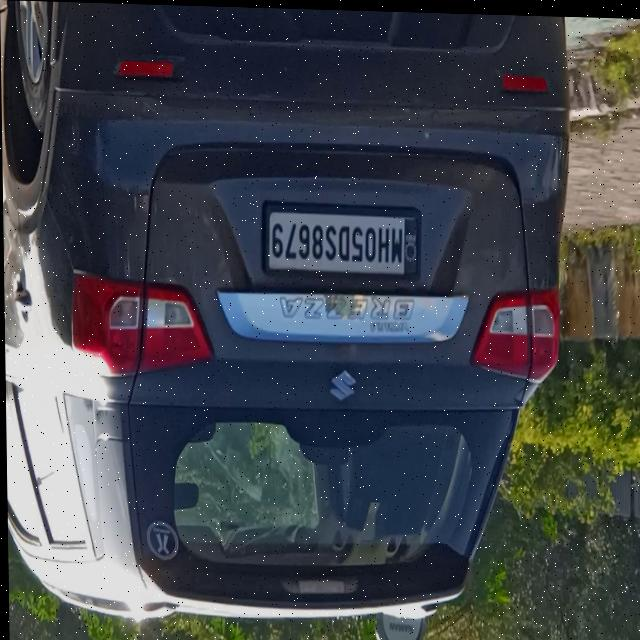plate: (260, 197, 423, 284)
